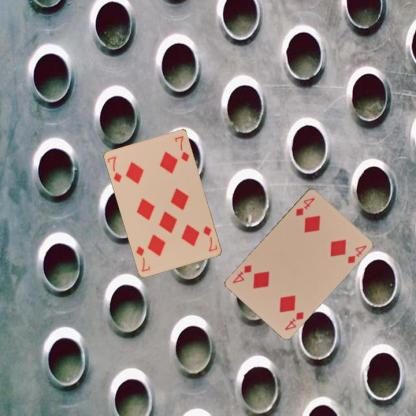4d: (293, 195, 316, 217), (282, 309, 305, 331)
7d: (200, 223, 219, 253), (105, 154, 123, 184)
